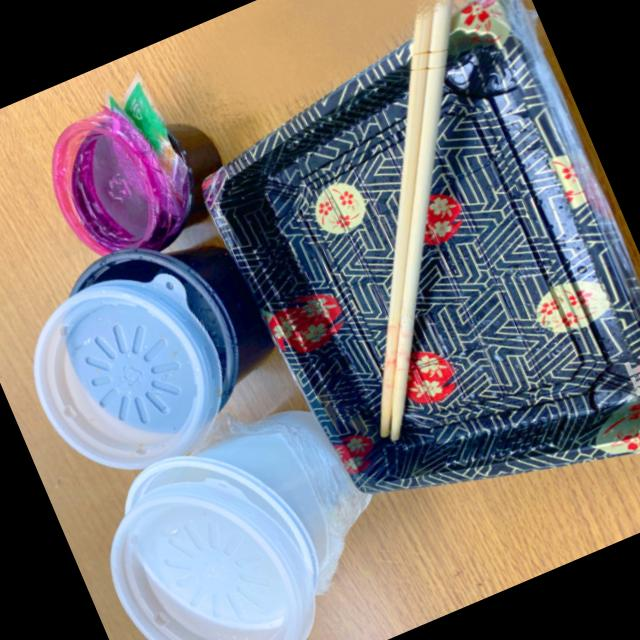plastic-bag: (105, 67, 195, 229)
plastic-bowl: (190, 0, 640, 501), (99, 392, 398, 640), (40, 207, 288, 455), (29, 270, 223, 474), (111, 475, 317, 640), (47, 107, 173, 257)
wooden chopsticks: (374, 0, 455, 445)
